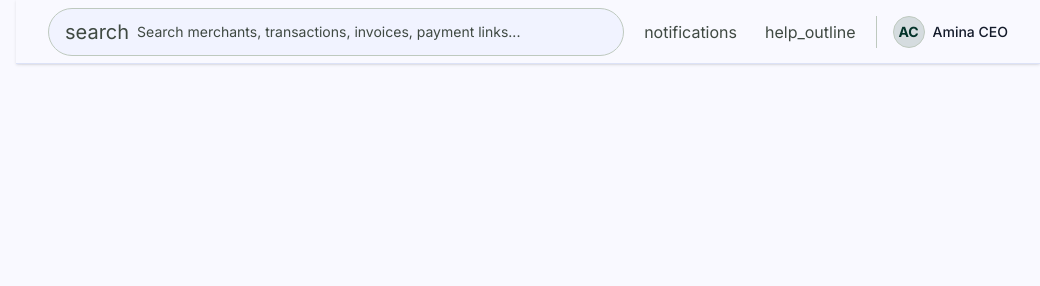
Test: AdminTopbar › shows the signed-in admin's real name, email, and role in the account menu
The image size is (1040, 286).
Click the button with aria-label "Account menu".
click(950, 32)  # box [893,16,1008,48]
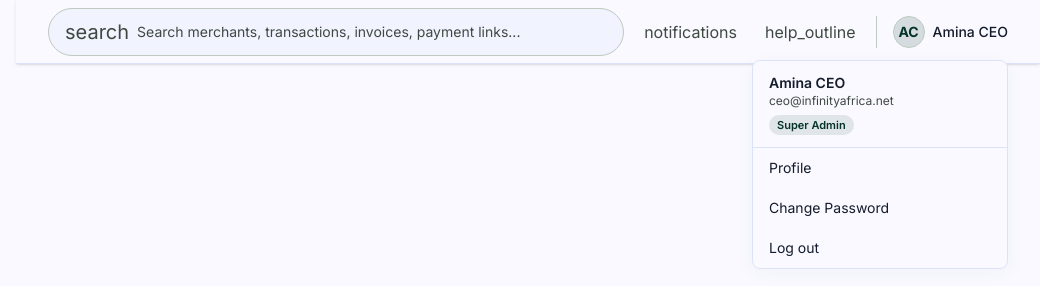
Expected: the text "ceo@infinityafrica.net" is shown, [769,92,894,108]
Expected: the text "Super Admin" is shown, [769,114,854,135]
Expected: the button "Log out" is shown, [753,228,1007,268]
